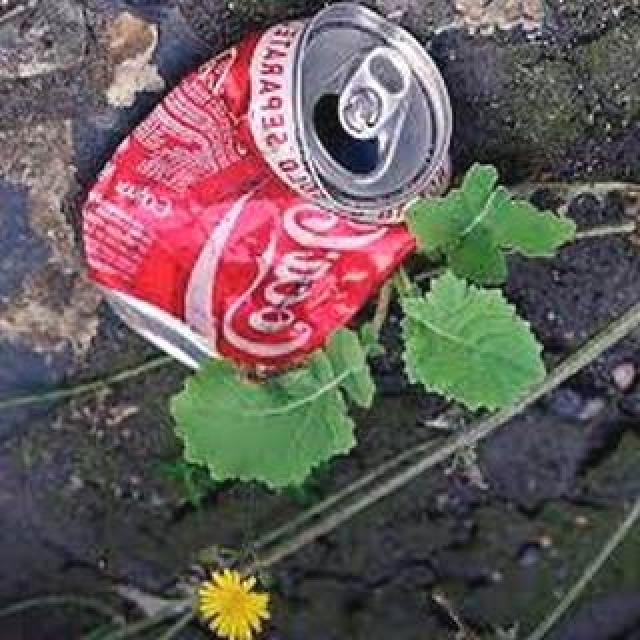Can: (74, 4, 450, 382)
